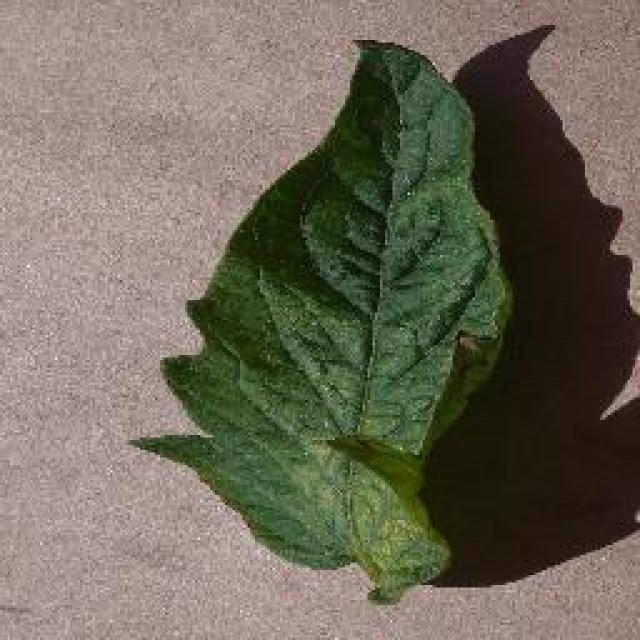Tom_Spider_mites Two-spotted_spider_mite: (252, 218, 458, 462)
